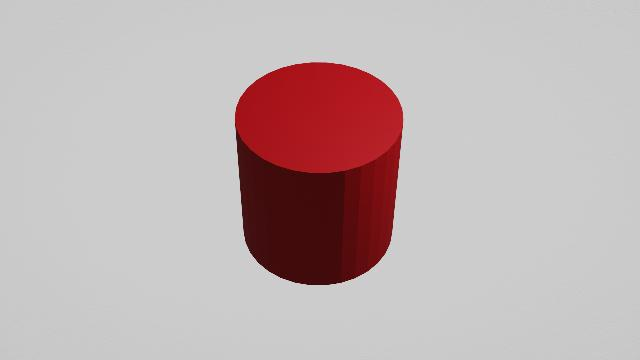Cylinder: (224, 60, 421, 292)
